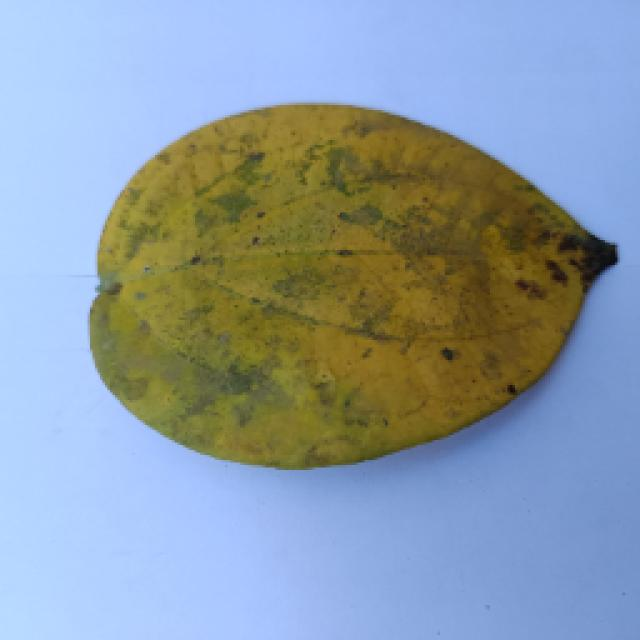slow-decline: (67, 95, 625, 473)
